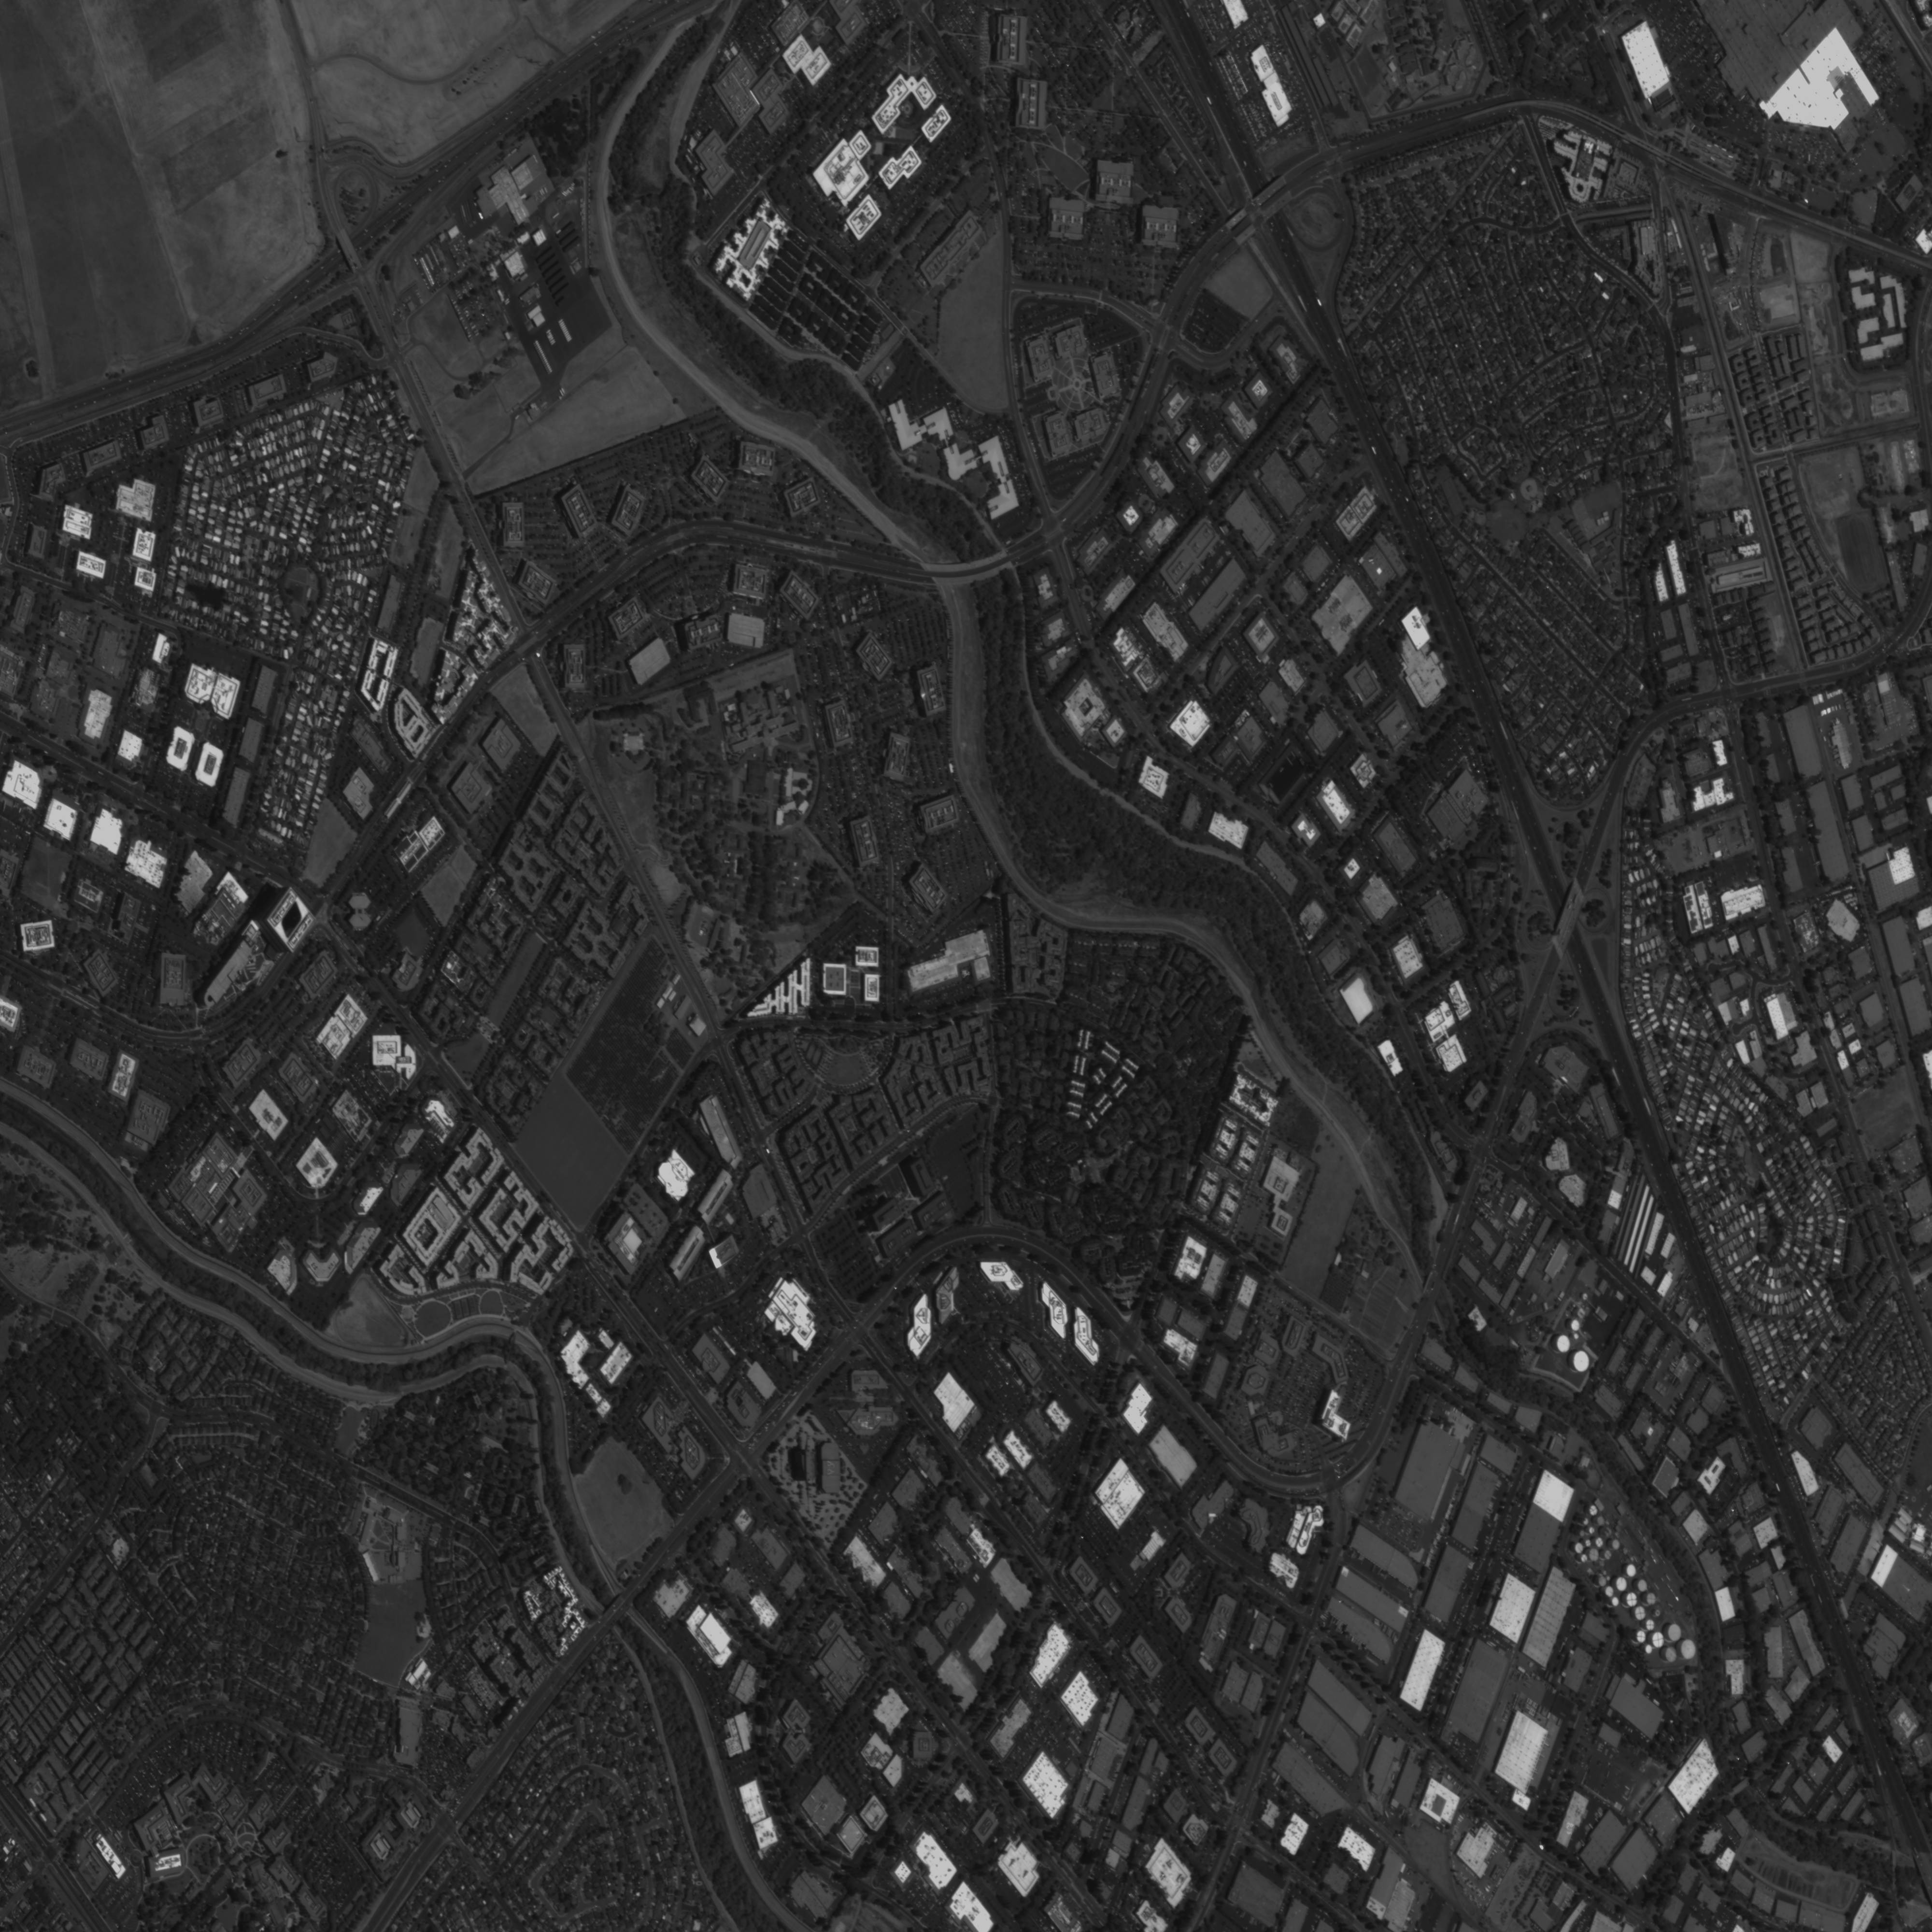bridge: (904, 547, 1010, 589)
storage tank: (1569, 1352, 1591, 1373), (1679, 1640, 1698, 1660), (1553, 1336, 1571, 1353), (1667, 1622, 1683, 1642), (1622, 1591, 1638, 1608), (1661, 1647, 1677, 1663), (1568, 1318, 1583, 1332), (1614, 1576, 1628, 1592), (1652, 1631, 1665, 1649), (1571, 1541, 1585, 1555), (1633, 1629, 1647, 1644), (1635, 1580, 1649, 1594), (1585, 1504, 1599, 1516), (1624, 1564, 1637, 1578), (1635, 1606, 1647, 1621), (1594, 1575, 1608, 1587), (1592, 1536, 1605, 1548), (1610, 1537, 1622, 1550), (1575, 1306, 1587, 1318), (1603, 1587, 1615, 1599), (1644, 1594, 1658, 1605), (1582, 1539, 1594, 1550), (1589, 1550, 1599, 1562), (1645, 1619, 1656, 1631), (1644, 1644, 1654, 1656), (1596, 1516, 1606, 1527), (1603, 1550, 1614, 1560), (1610, 1598, 1621, 1608), (1585, 1527, 1598, 1536), (1580, 1516, 1591, 1525), (1576, 1555, 1587, 1564), (1654, 1608, 1663, 1617), (1573, 1332, 1580, 1341), (1582, 1293, 1589, 1300)
